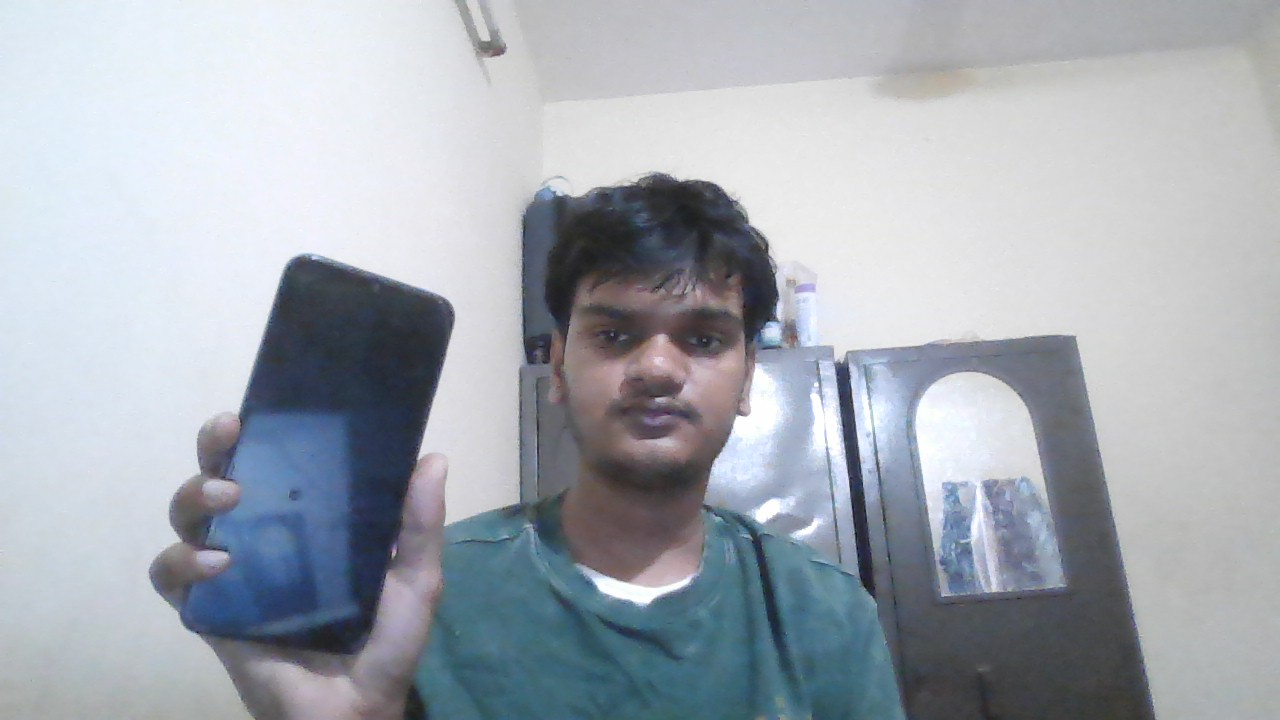phone: (232, 234, 464, 479)
